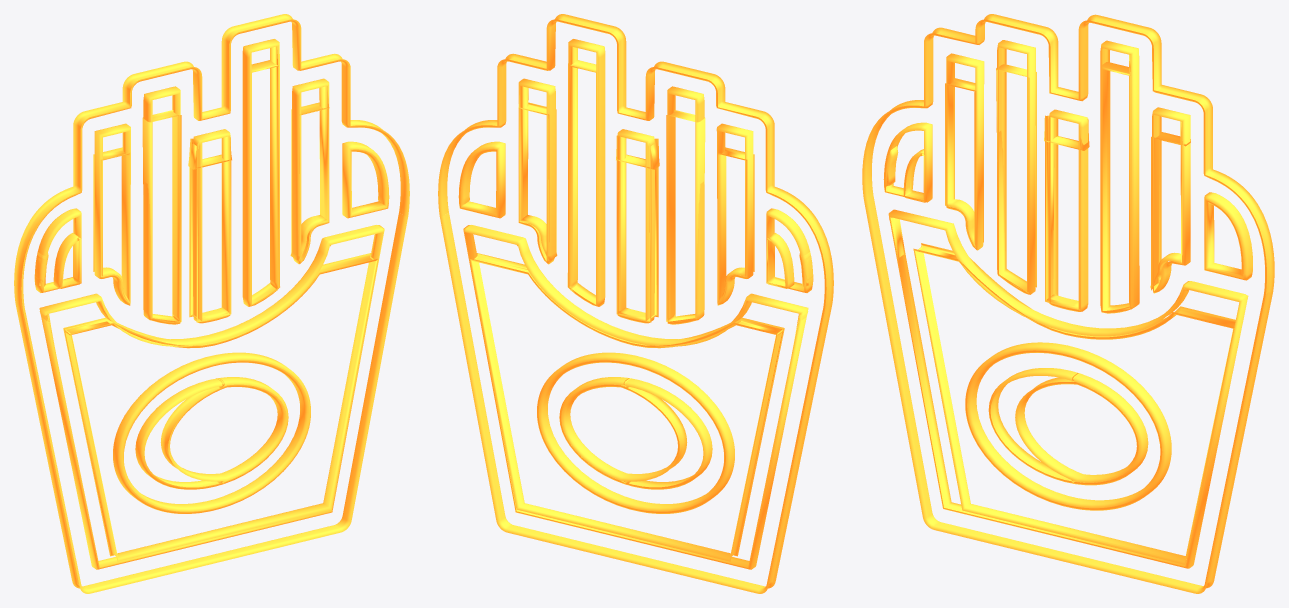
File: fries.glb
3 views of the same model, side by side, from view 1: azimuth 30°, elevation 25°; view 2: azimuth 150°, elevation 25°; view 3: azimuth 330°, elevation 25° (orthographic). The views are drawn at different scales.
Visible parts, largest first — view 1: Curve.001; view 2: Curve.001; view 3: Curve.001.
Part boxes in pixels (x1,y1,x2,y2): Curve.001: (14,14,409,593); Curve.001: (438,14,833,593); Curve.001: (862,14,1274,593).
Bounding box in the file's own units: 2.62 × 3.39 × 0.0861.
